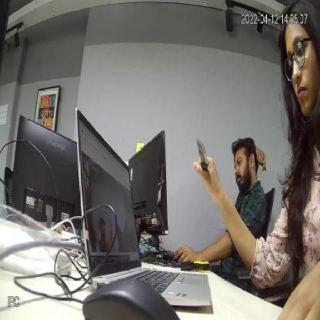knife: (188, 127, 210, 174)
